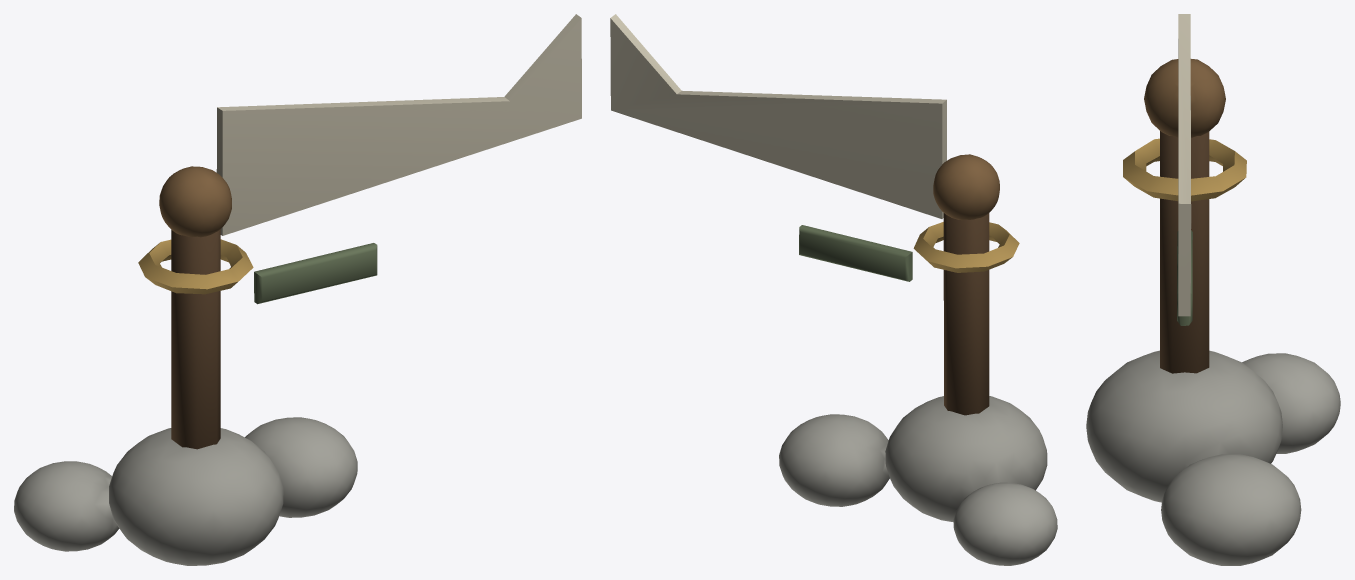
Rendered from kite_pennant_a.glb.
The picture shows the model from 3 angles, left to right: view 1: azimuth 30°, elevation 25°; view 2: azimuth 150°, elevation 25°; view 3: azimuth 270°, elevation 25°; orthographic projection. The views are drawn at different scales.
Visible parts, largest first — view 1: Surface; view 2: Surface; view 3: Surface.
Boxes of the visible parts, x1=… form: Surface: x1=14, y1=14, x2=581, y2=565; Surface: x1=610, y1=14, x2=1057, y2=565; Surface: x1=1086, y1=14, x2=1340, y2=565.
Size of the model in its own units: 2.15 by 1.78 by 0.824.
